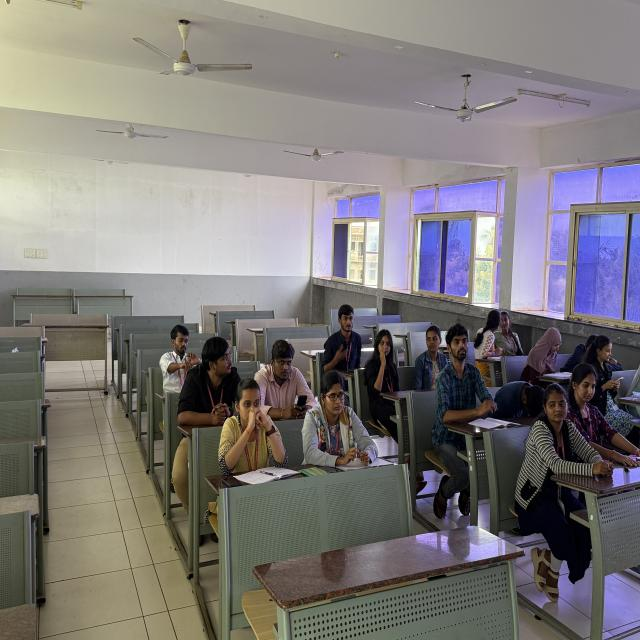Reading: (525, 325, 573, 381)
Sleeping: (492, 375, 556, 435)
Using Phone: (250, 334, 324, 430), (586, 332, 630, 412), (322, 299, 365, 369)
